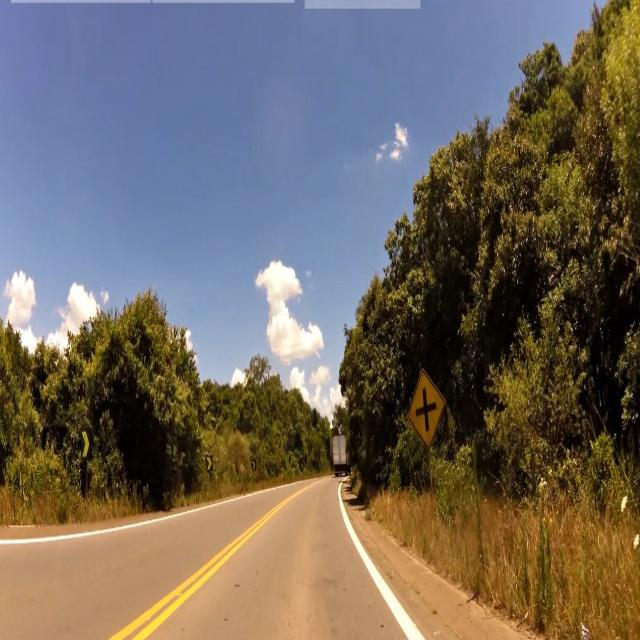A-6: (410, 371, 448, 447)
Del: (79, 429, 93, 460), (205, 456, 214, 473), (252, 459, 256, 470)
